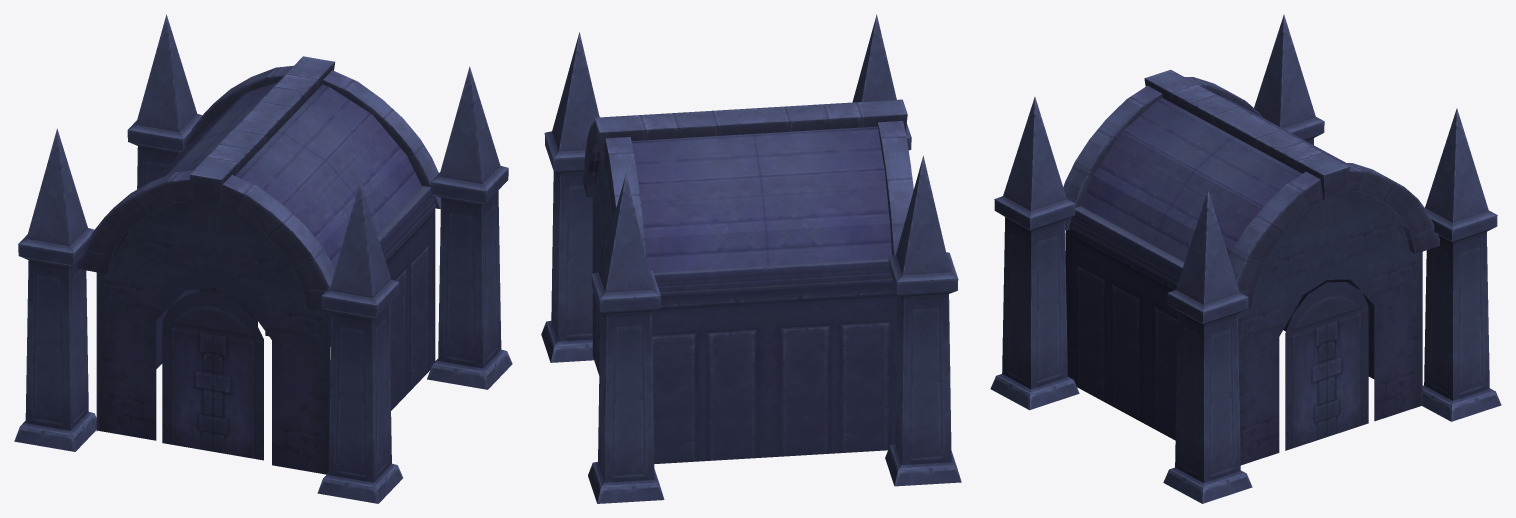
Rendered from Area09_8.fbx.
The picture shows the model from 3 angles, left to right: view 1: azimuth 30°, elevation 25°; view 2: azimuth 150°, elevation 25°; view 3: azimuth 270°, elevation 25°; orthographic projection. The views are drawn at different scales.
Visible parts, largest first — view 1: Area09_8; view 2: Area09_8; view 3: Area09_8.
Boxes of the visible parts, x1,y1,x2,y2 form: Area09_8: [14, 14, 512, 503]; Area09_8: [541, 14, 961, 503]; Area09_8: [990, 14, 1501, 503].
Size of the model in its own units: 1285 by 828 by 1300.
